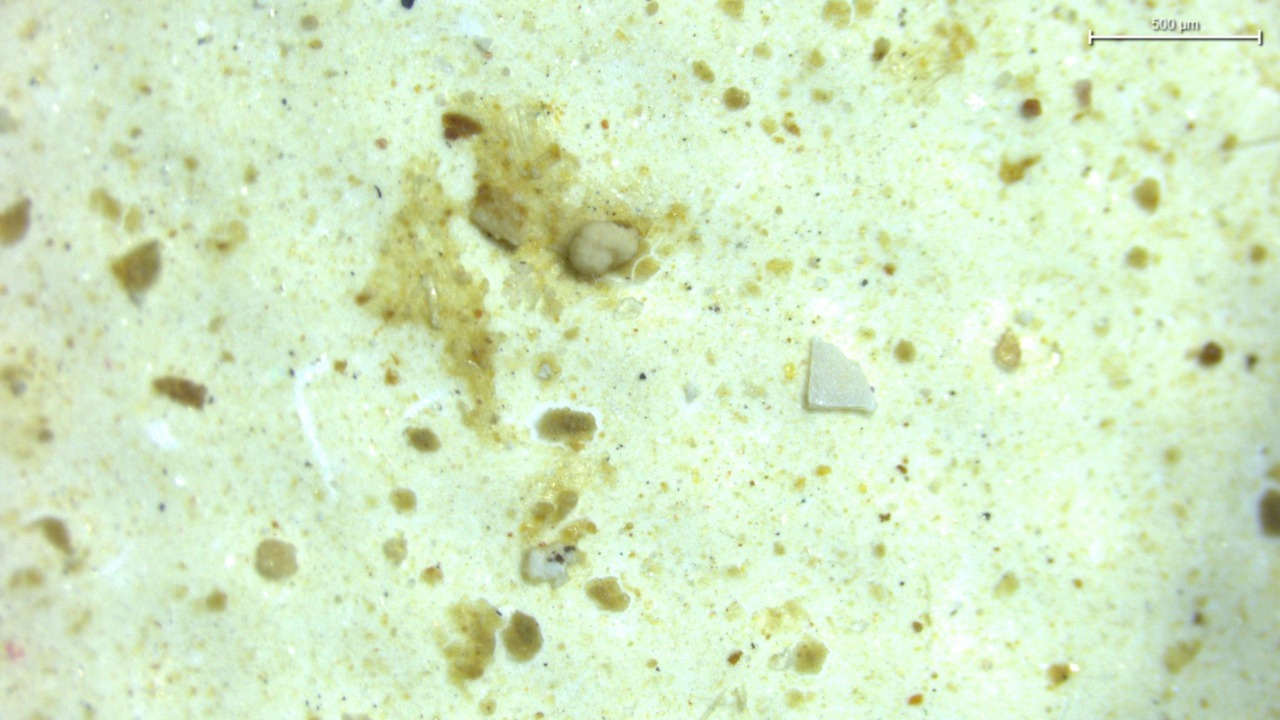microplastic_fragment: (805, 337, 876, 412), (567, 221, 640, 277), (522, 543, 577, 585)
